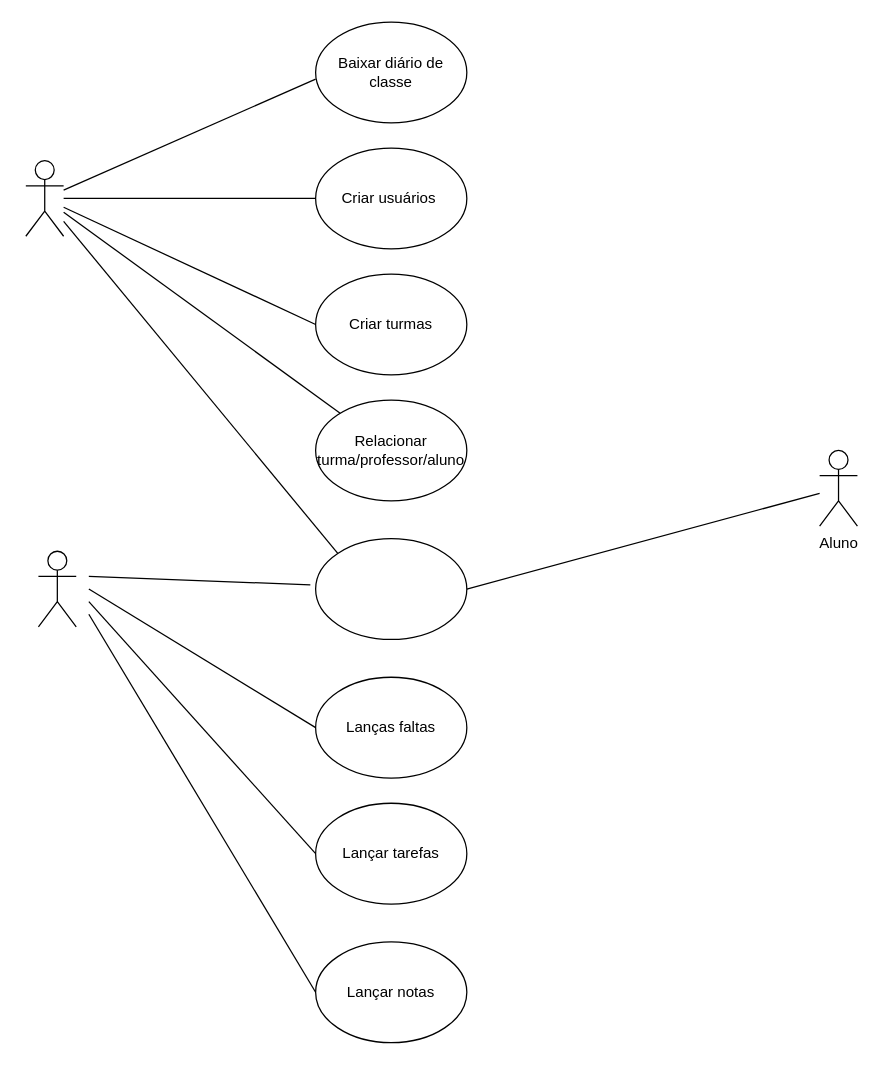
This 879x1065 diagram has some shape labels left out. Each missing label, with the box of its shape:
Gestor: (25, 159, 64, 236)
Professor: (37, 550, 76, 627)
Visualizar agenda da turma: (314, 537, 467, 639)
